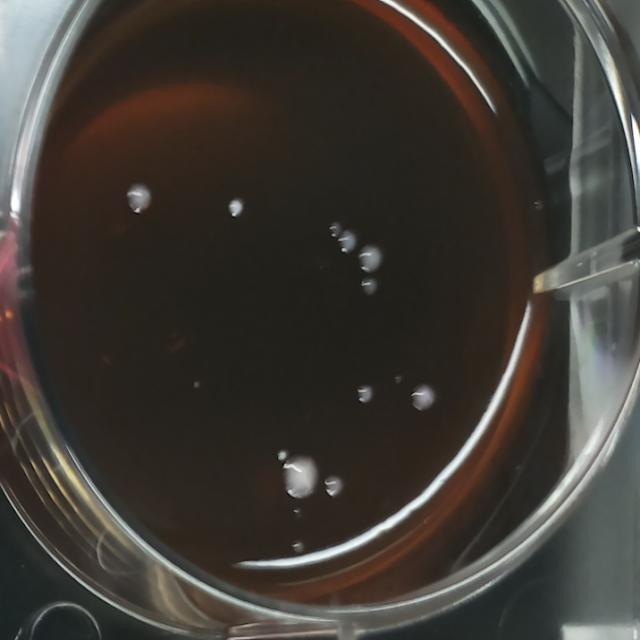Bacillus: (280, 452, 320, 503)
Staphylococcus: (226, 195, 247, 222), (275, 447, 289, 465)
